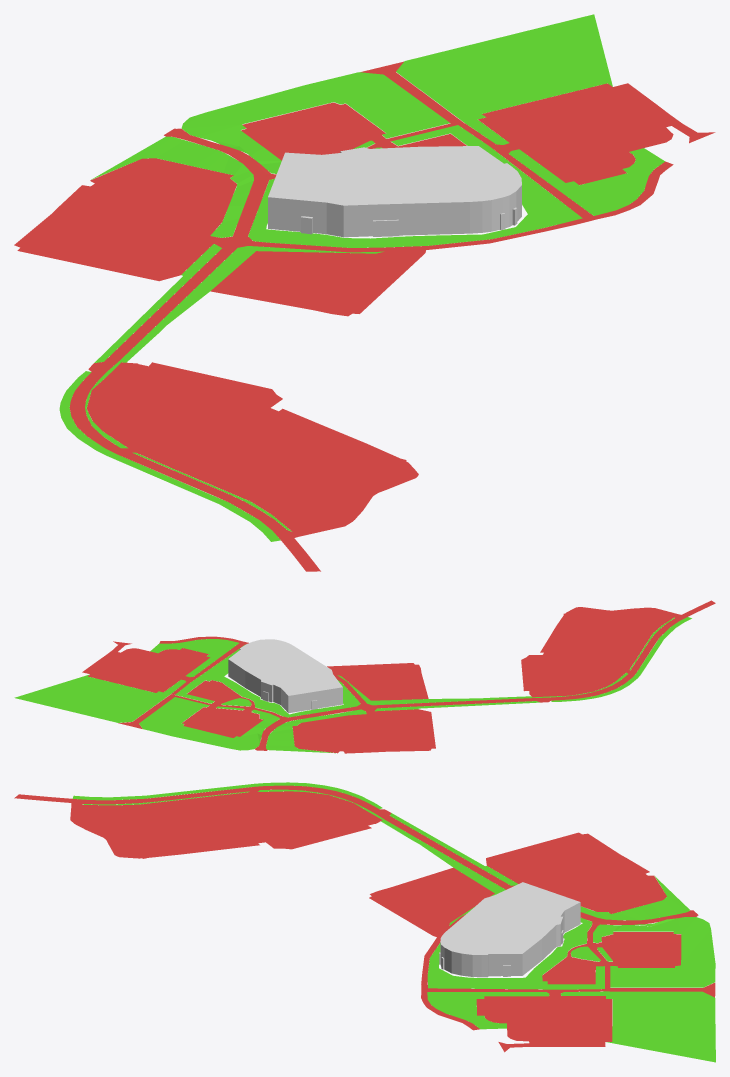
File: MapAndBaxter.fbx
The picture shows the model from 3 angles, top to bottom: view 1: azimuth 30°, elevation 25°; view 2: azimuth 150°, elevation 25°; view 3: azimuth 270°, elevation 25°; orthographic projection. The views are drawn at different scales.
Parts seen in each view (by area): view 1: Plane, Cube, Plane.009, Plane.003, Plane.002, Plane.008, Plane.001, Plane.004, Plane.006, Plane.007; view 2: Plane, Cube, Plane.009, Plane.003, Plane.002, Plane.008, Plane.001, Plane.004, Plane.006, Plane.007; view 3: Plane, Cube, Plane.009, Plane.003, Plane.002, Plane.008, Plane.001, Plane.004, Plane.006, Plane.007.
Part boxes in pixels (bbox=[...]): Plane: bbox=[14, 61, 715, 571]; Cube: bbox=[268, 146, 521, 237]; Plane.009: bbox=[396, 14, 612, 144]; Plane.003: bbox=[181, 72, 450, 173]; Plane.002: bbox=[248, 125, 582, 247]; Plane.008: bbox=[508, 148, 664, 215]; Plane.001: bbox=[91, 136, 253, 237]; Plane.004: bbox=[85, 246, 383, 448]; Plane.006: bbox=[59, 371, 280, 541]; Plane.007: bbox=[94, 244, 221, 362]; Plane: bbox=[82, 600, 715, 753]; Cube: bbox=[228, 639, 342, 713]; Plane.009: bbox=[14, 674, 185, 722]; Plane.003: bbox=[139, 697, 279, 750]; Plane.002: bbox=[175, 645, 360, 717]; Plane.008: bbox=[150, 639, 238, 677]; Plane.001: bbox=[266, 709, 366, 753]; Plane.004: bbox=[337, 672, 627, 705]; Plane.006: bbox=[551, 617, 691, 701]; Plane.007: bbox=[375, 701, 539, 711]; Plane: bbox=[14, 785, 715, 1052]; Cube: bbox=[440, 882, 580, 977]; Plane.009: bbox=[560, 991, 715, 1062]; Plane.003: bbox=[593, 917, 715, 987]; Plane.002: bbox=[427, 918, 604, 989]; Plane.008: bbox=[427, 992, 549, 1029]; Plane.001: bbox=[580, 876, 690, 920]; Plane.004: bbox=[258, 789, 505, 925]; Plane.006: bbox=[72, 782, 382, 808]; Plane.007: bbox=[390, 813, 517, 885].
Size of the model in its own units: 5430 by 206 by 5751.
